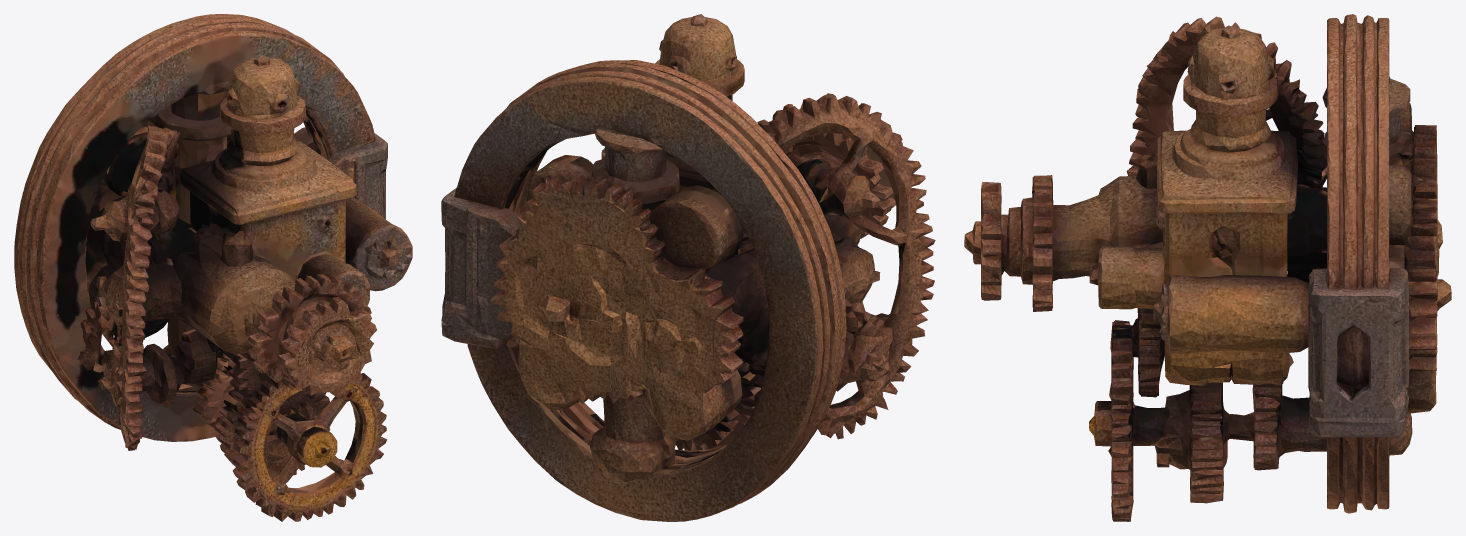
File: head (279).glb
The picture shows the model from 3 angles, left to right: view 1: azimuth 30°, elevation 25°; view 2: azimuth 150°, elevation 25°; view 3: azimuth 270°, elevation 25°; orthographic projection. The views are drawn at different scales.
Parts seen in each view (by area): view 1: Hy21_Mesh.obj; view 2: Hy21_Mesh.obj; view 3: Hy21_Mesh.obj.
Boxes of the visible parts, <box> form: Hy21_Mesh.obj: <box>14,14,412,521</box>; Hy21_Mesh.obj: <box>441,14,935,521</box>; Hy21_Mesh.obj: <box>964,14,1451,521</box>.
Bounding box in the file's own units: 1.68 × 1.96 × 1.79.
1 material, 1 textured.
